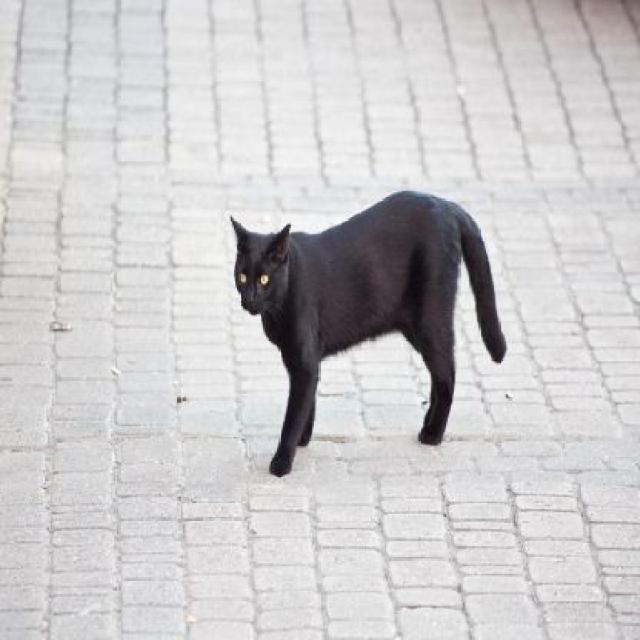cat: (221, 207, 504, 471)
